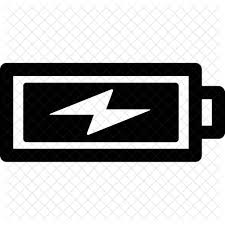charging sign: (1, 50, 225, 172)
